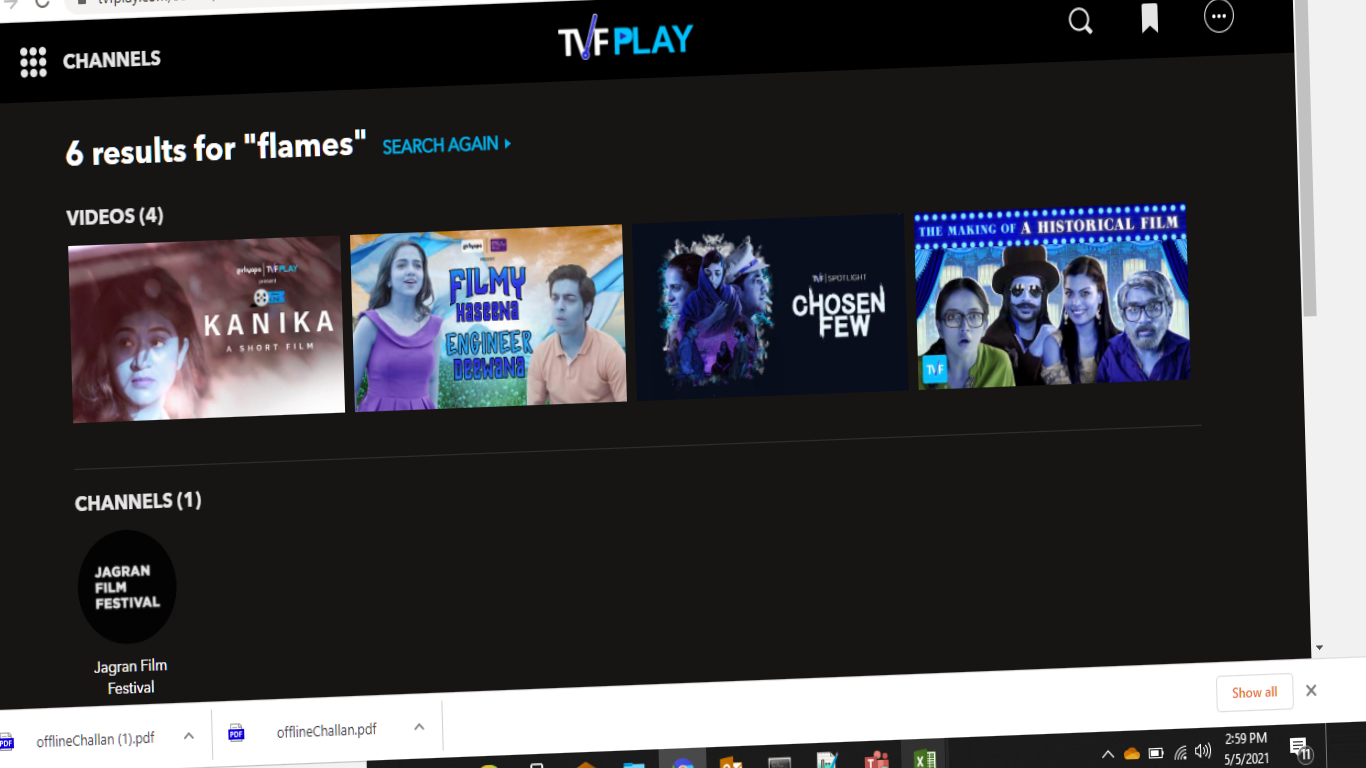resultsfound: (55, 113, 528, 171)
searchicon: (1049, 8, 1106, 50)
